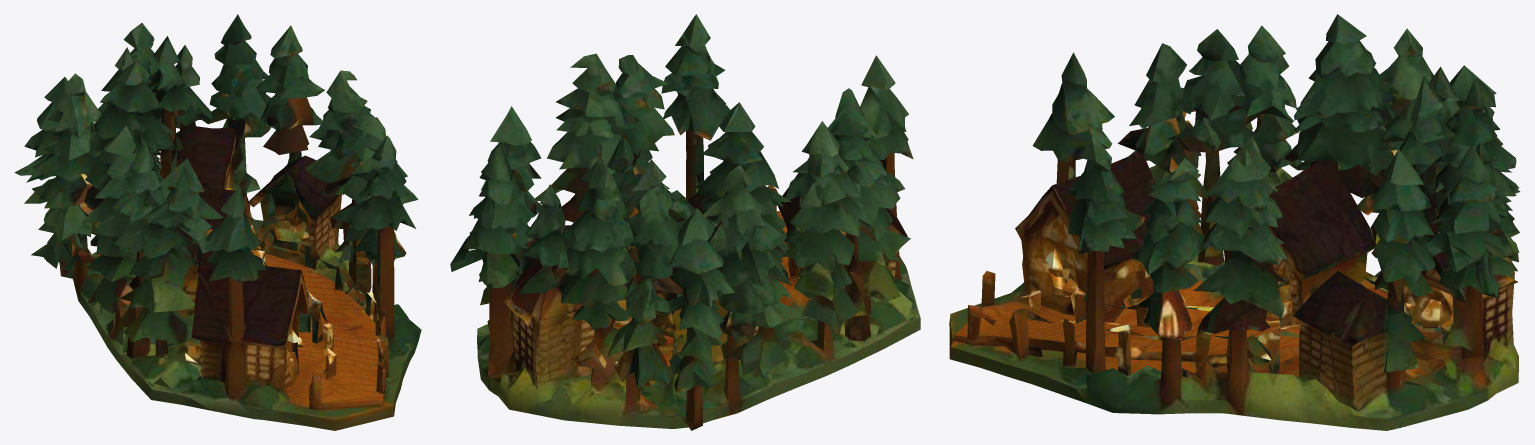
File: ningle-terrace.glb
3 renders of one model, left to right at view 1: azimuth 30°, elevation 25°; view 2: azimuth 150°, elevation 25°; view 3: azimuth 270°, elevation 25°, orthographic. The views are drawn at different scales.
Visible parts, largest first — view 1: logan-textured.obj; view 2: logan-textured.obj; view 3: logan-textured.obj.
Boxes of the visible parts, bbox=[...] form: logan-textured.obj: bbox=[14, 14, 421, 430]; logan-textured.obj: bbox=[450, 14, 920, 430]; logan-textured.obj: bbox=[949, 14, 1519, 430].
Bounding box in the file's own units: 0.7028 × 0.5696 × 1.
1 material, 1 textured.
